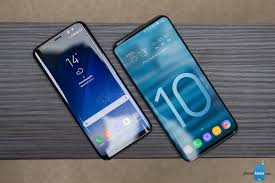samsung: (31, 21, 153, 166)
